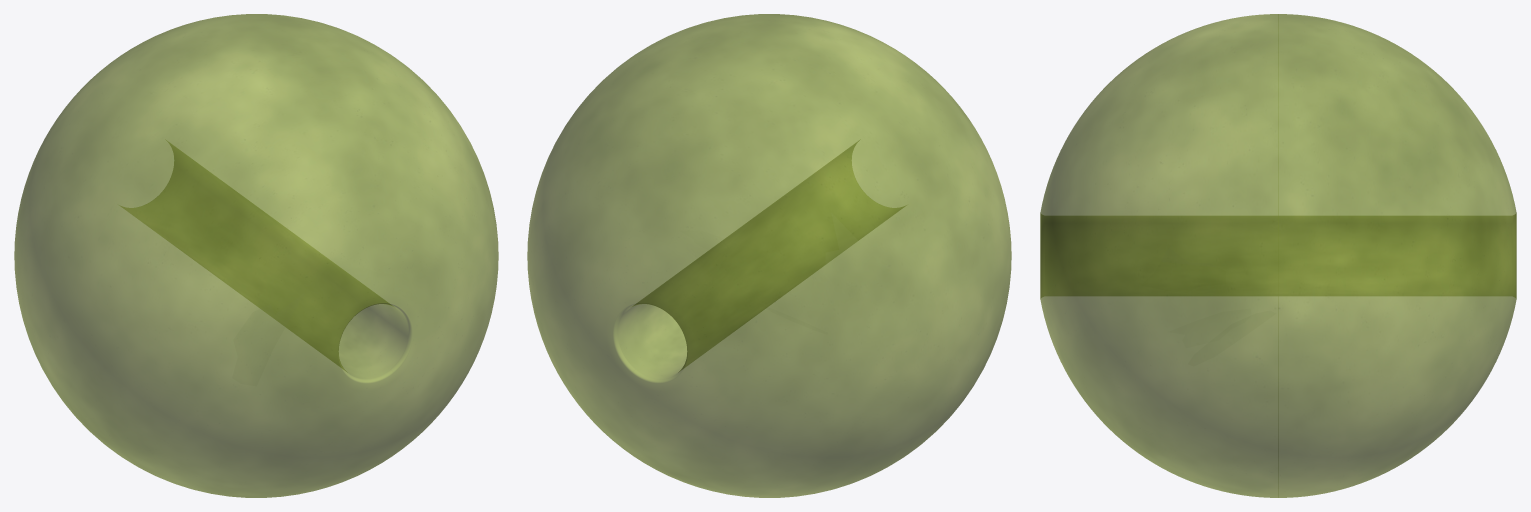
Rendered from peridot-aa-6mm.glb.
3 views of the same model, side by side, from view 1: azimuth 30°, elevation 25°; view 2: azimuth 150°, elevation 25°; view 3: azimuth 270°, elevation 25° (orthographic).
Parts seen in each view (by area): view 1: peridot-aa.001; view 2: peridot-aa.001; view 3: peridot-aa.001.
Boxes of the visible parts, bbox=[...] form: peridot-aa.001: bbox=[14, 14, 498, 497]; peridot-aa.001: bbox=[527, 14, 1011, 497]; peridot-aa.001: bbox=[1040, 14, 1516, 497].
Size of the model in its own units: 0.006 by 0.006 by 0.0059.
2 materials, 1 textured.
